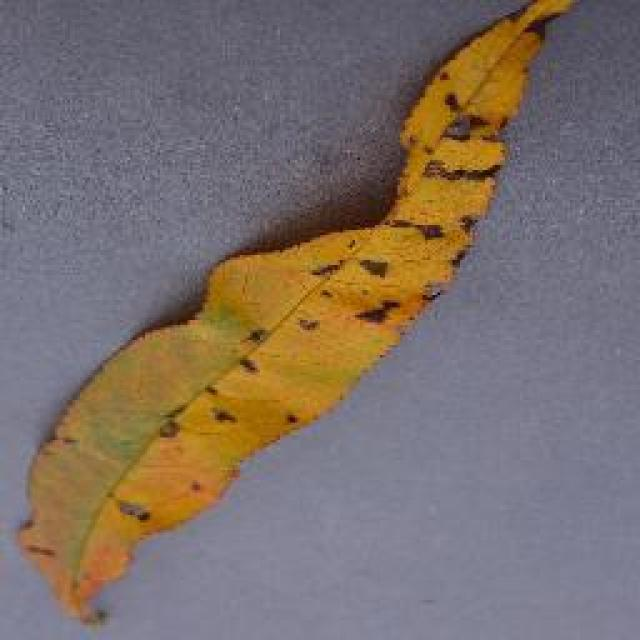Peach_Bacterial_Spot: (197, 170, 515, 412)
